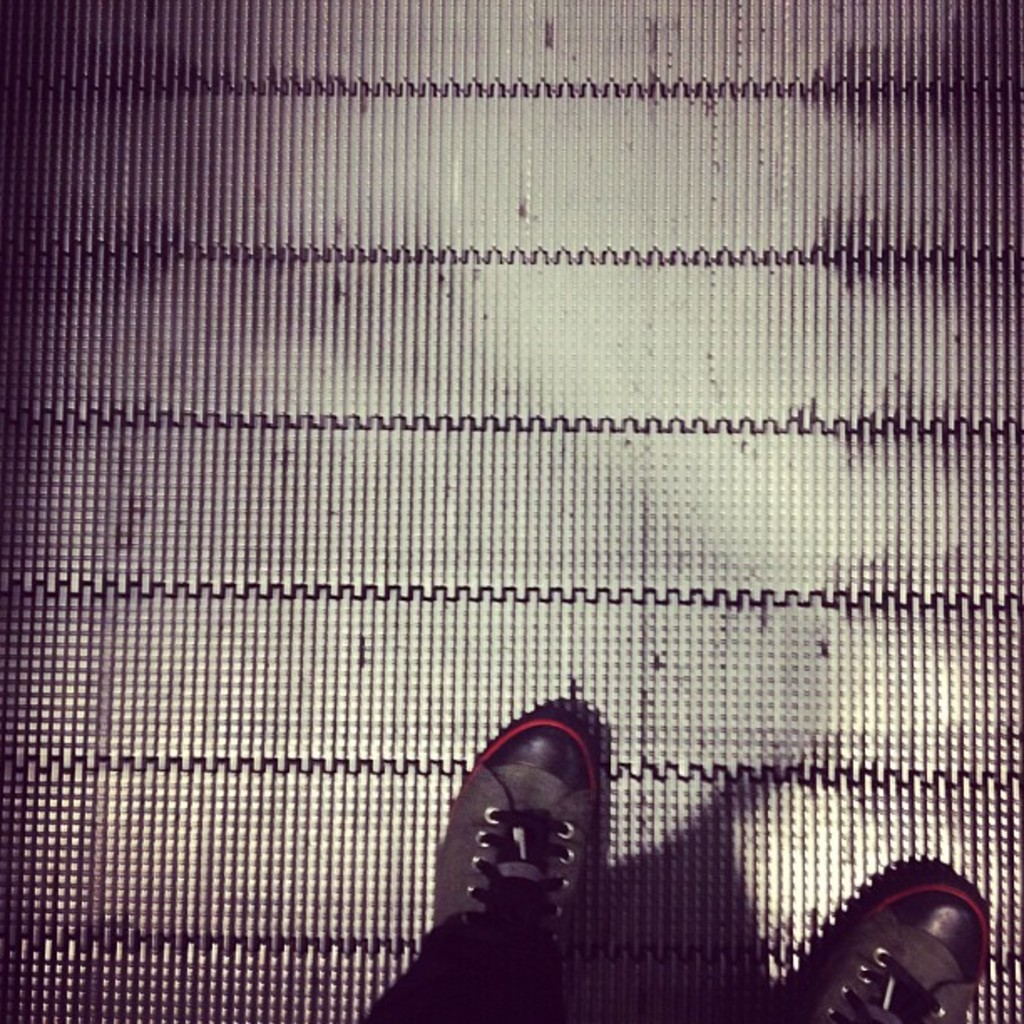Footwear: (425, 719, 622, 984), (773, 860, 996, 1022)
